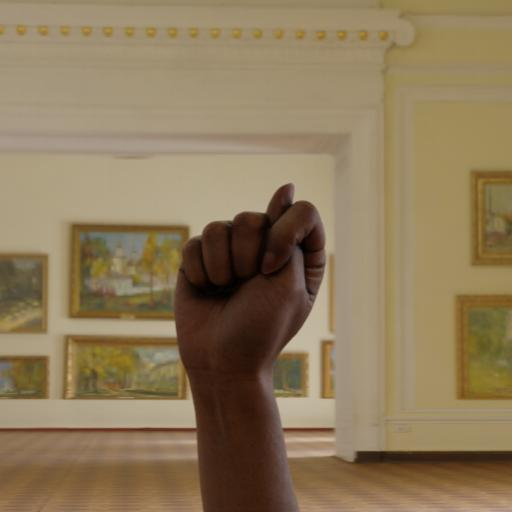T: (162, 163, 342, 407)
